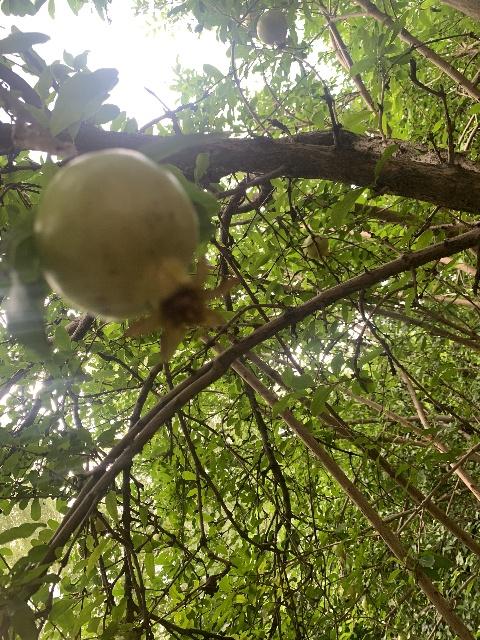mid-growth: (33, 148, 240, 364), (256, 9, 293, 56), (302, 233, 336, 263)
